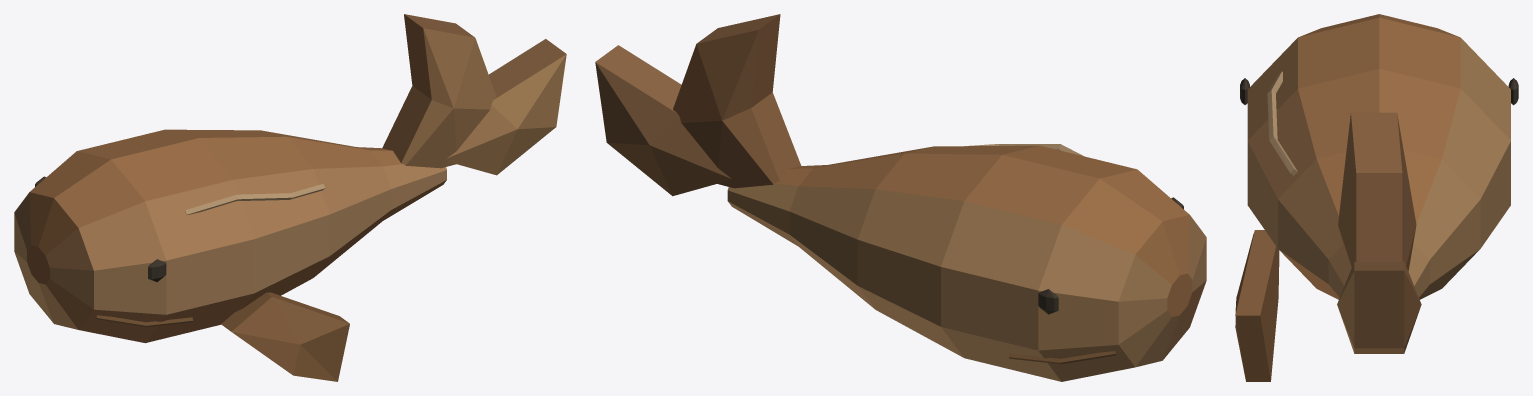
The model's file is Carved_Whale.glb.
3 views of the same model, side by side, from view 1: azimuth 30°, elevation 25°; view 2: azimuth 150°, elevation 25°; view 3: azimuth 270°, elevation 25° (orthographic). The views are drawn at different scales.
Visible parts, largest first — view 1: Carved_Whale; view 2: Carved_Whale; view 3: Carved_Whale.
Part boxes in pixels (x1,y1,x2,y2): Carved_Whale: [14, 14, 566, 381]; Carved_Whale: [595, 14, 1206, 381]; Carved_Whale: [1235, 14, 1518, 381].
Size of the model in its own units: 2 by 1.07 by 0.7969.
